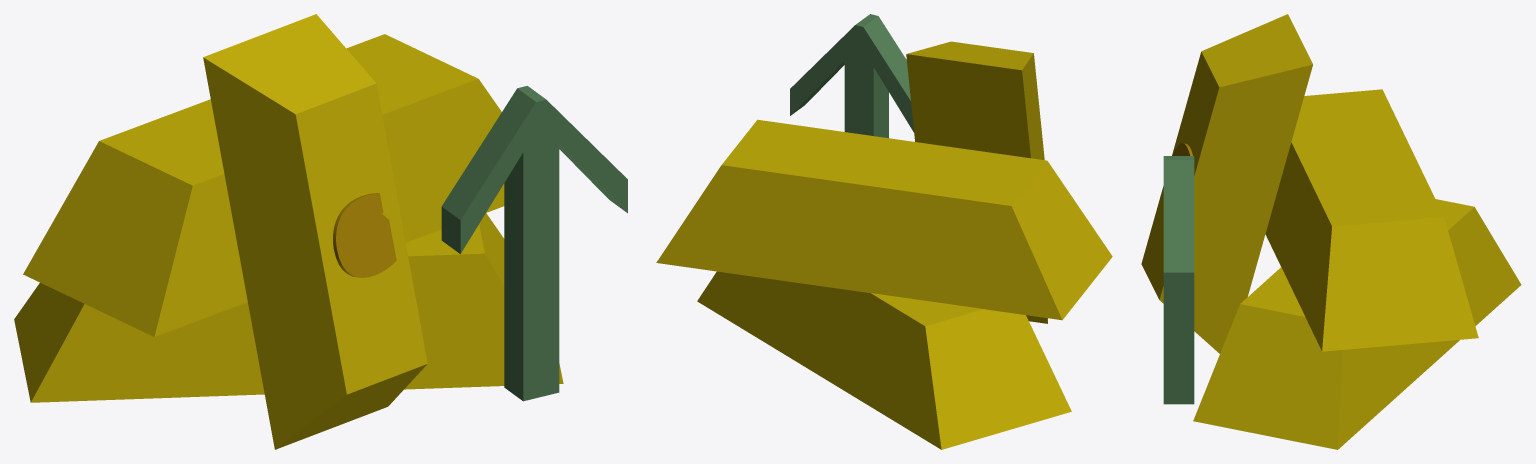
The model's file is gold price.fbx.
3 renders of one model, left to right at view 1: azimuth 30°, elevation 25°; view 2: azimuth 150°, elevation 25°; view 3: azimuth 270°, elevation 25°, orthographic. The views are drawn at different scales.
Visible parts, largest first — view 1: pCube5, pCube2, pCube1, pCube3, typeMesh1; view 2: pCube2, pCube1, pCube5, pCube3; view 3: pCube2, pCube5, pCube1, pCube3.
Boxes of the visible parts, x1,y1,x2,y2 form: pCube5: (203, 14, 427, 449); pCube2: (23, 34, 504, 336); pCube1: (14, 213, 563, 402); pCube3: (441, 86, 627, 401); typeMesh1: (333, 193, 396, 277); pCube2: (656, 119, 1112, 320); pCube1: (697, 271, 1071, 449); pCube5: (906, 41, 1047, 323); pCube3: (790, 14, 914, 138); pCube2: (1265, 89, 1478, 351); pCube5: (1141, 14, 1312, 353); pCube1: (1193, 199, 1521, 449); pCube3: (1163, 156, 1194, 404).
Size of the model in its own units: 2.87 by 2 by 2.38.
